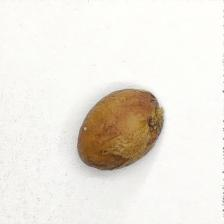NG: (145, 91, 165, 138)
